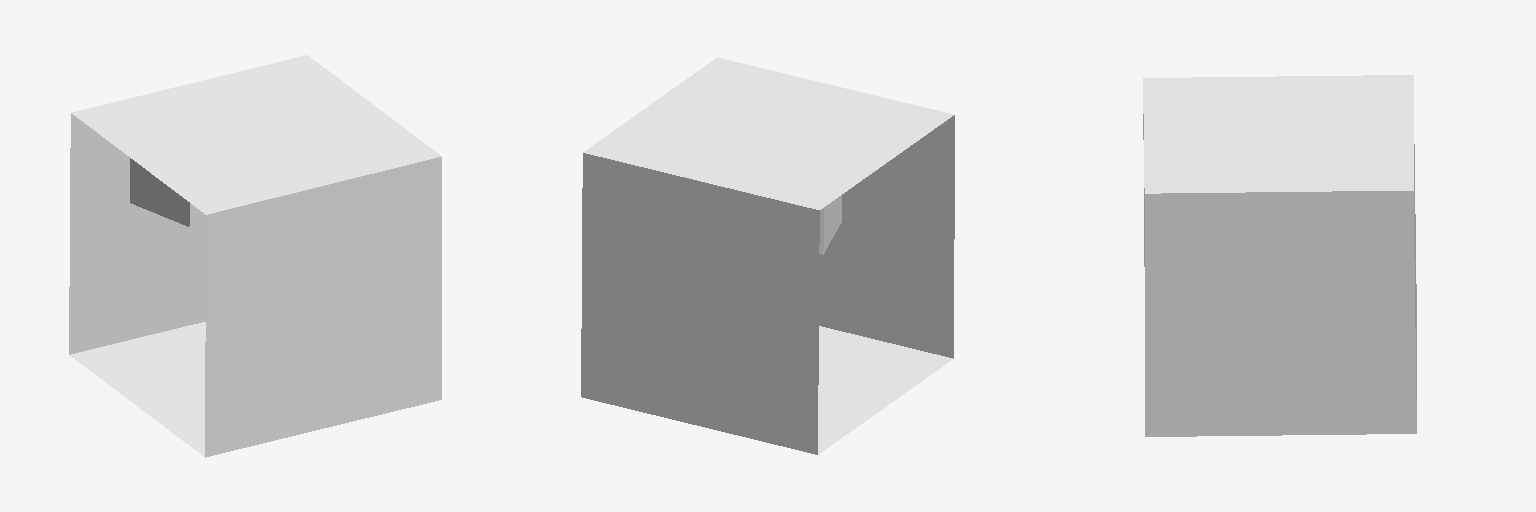
The model's file is cornellsample.obj.
The picture shows the model from 3 angles: view 1: azimuth 30°, elevation 25°; view 2: azimuth 150°, elevation 25°; view 3: azimuth 270°, elevation 25°; orthographic projection.
Parts seen in each view (by area): view 1: cornell_box; view 2: cornell_box; view 3: cornell_box.
Boxes of the visible parts, x1=… form: cornell_box: x1=69, y1=55, x2=441, y2=457; cornell_box: x1=581, y1=57, x2=954, y2=454; cornell_box: x1=1143, y1=75, x2=1416, y2=436.
Bounding box in the file's own units: 78.06 × 77.61 × 78.15.